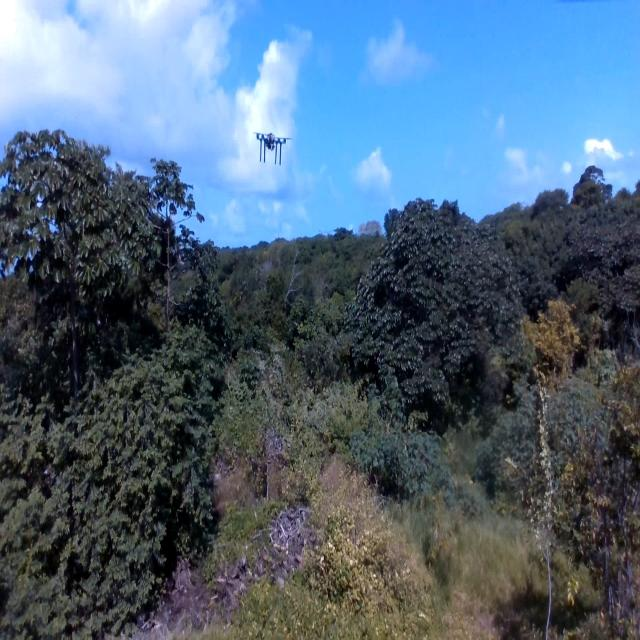-uav-: (249, 121, 302, 181)
